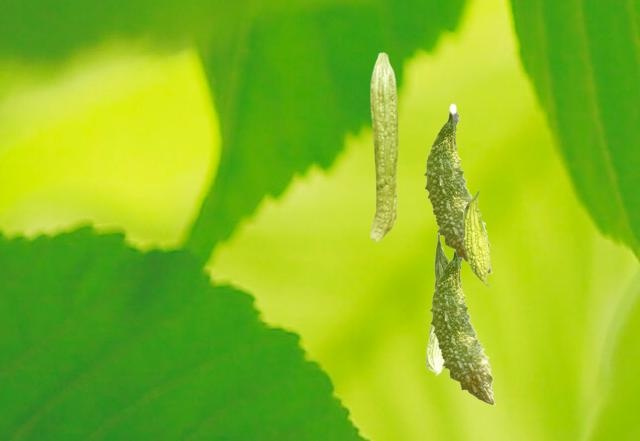ampalaya: (422, 103, 492, 274), (428, 250, 495, 405), (369, 52, 399, 242), (425, 234, 449, 376), (462, 190, 490, 287)
